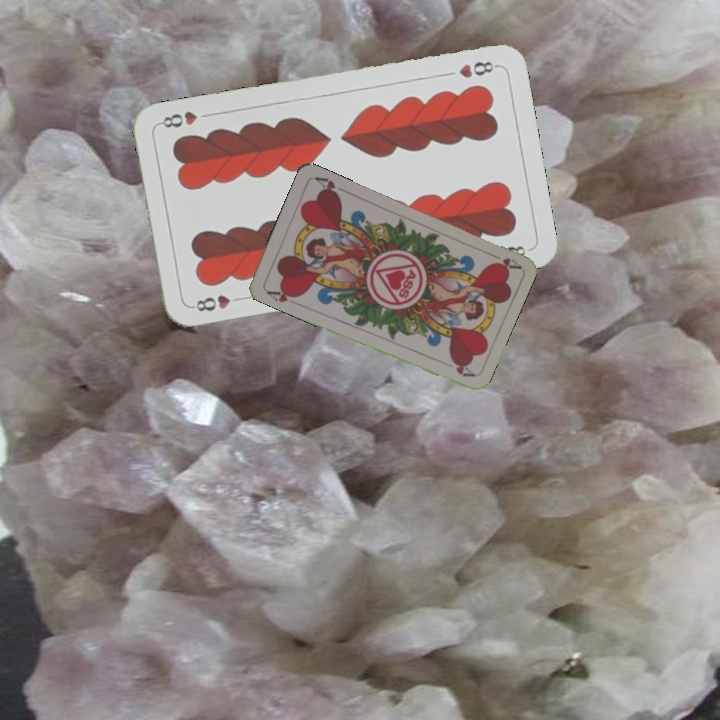H8: (188, 291, 246, 314), (455, 57, 501, 81)
HA: (484, 248, 522, 273), (262, 284, 301, 307)
